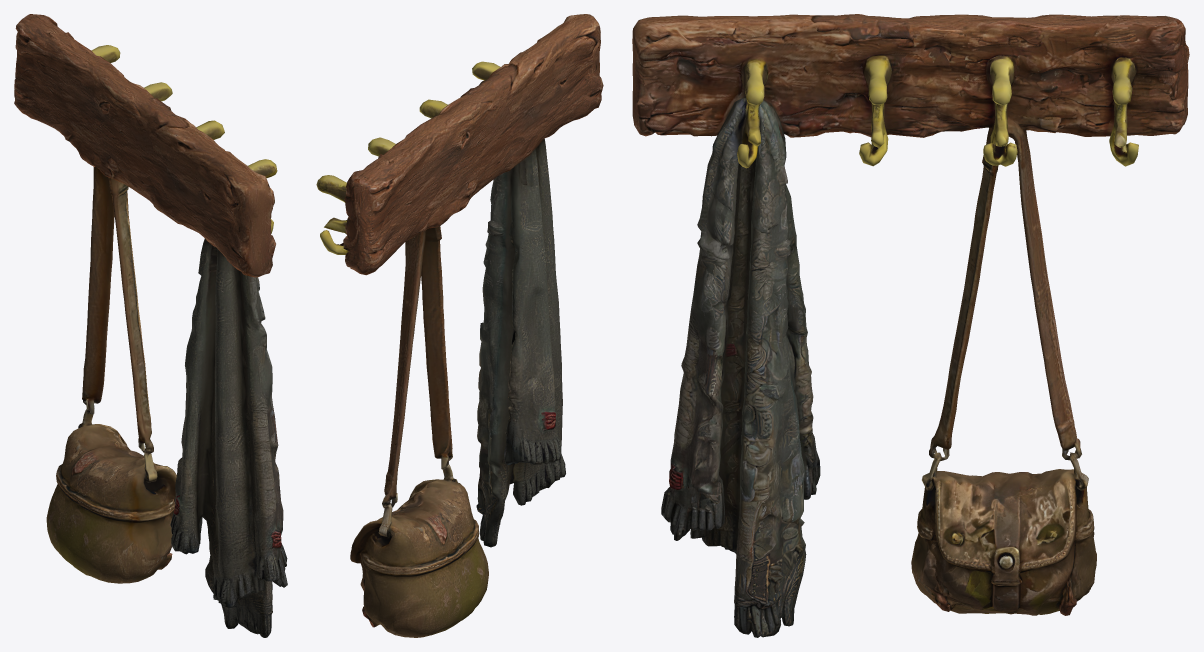
The model's file is scene-wall-coat-pegs-v03.glb.
3 renders of one model, left to right at view 1: azimuth 30°, elevation 25°; view 2: azimuth 150°, elevation 25°; view 3: azimuth 270°, elevation 25°, orthographic. The views are drawn at different scales.
Parts seen in each view (by area): view 1: tripo_node_a8cd04a4-3ce9-4426-a860-183d94913b5e; view 2: tripo_node_a8cd04a4-3ce9-4426-a860-183d94913b5e; view 3: tripo_node_a8cd04a4-3ce9-4426-a860-183d94913b5e.
Part boxes in pixels (left/top/right/bottom): tripo_node_a8cd04a4-3ce9-4426-a860-183d94913b5e: left=14, top=14, right=287, bottom=637; tripo_node_a8cd04a4-3ce9-4426-a860-183d94913b5e: left=316, top=14, right=603, bottom=637; tripo_node_a8cd04a4-3ce9-4426-a860-183d94913b5e: left=632, top=14, right=1189, bottom=637.
Size of the model in its own units: 0.1717 by 0.8 by 0.6823.
Materials: 1 (1 with a texture image).
